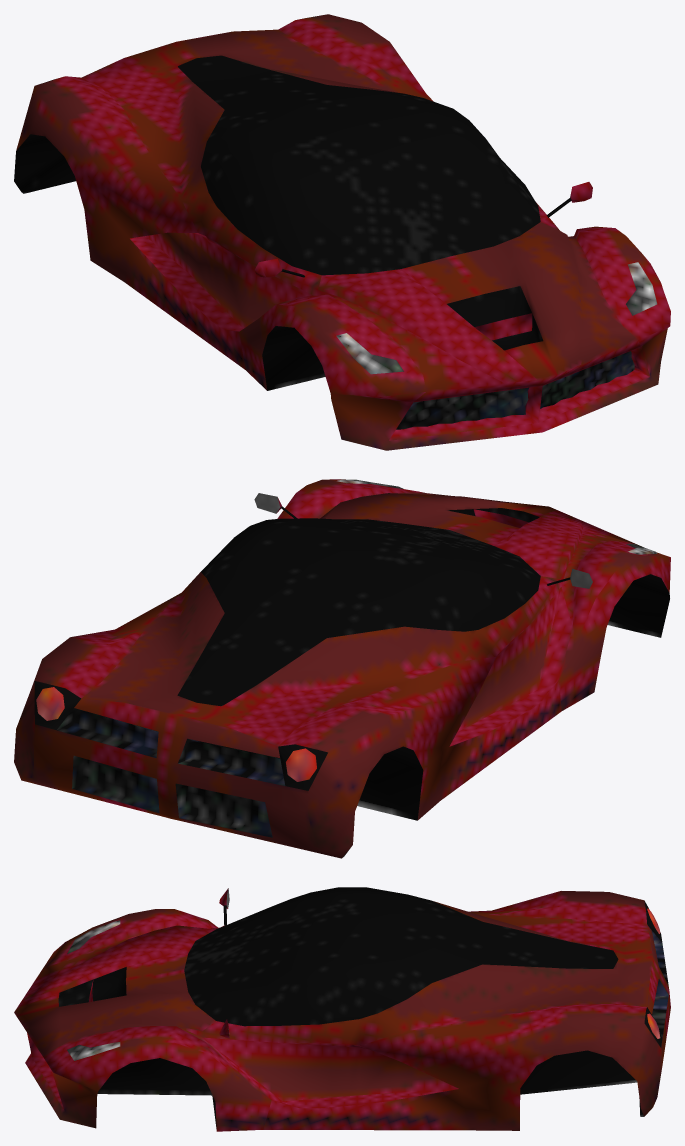
File: ferrari laferrari.fbx
The picture shows the model from 3 angles, top to bottom: view 1: azimuth 30°, elevation 25°; view 2: azimuth 150°, elevation 25°; view 3: azimuth 270°, elevation 25°; orthographic projection. The views are drawn at different scales.
Visible parts, largest first — view 1: ferrari laferrari; view 2: ferrari laferrari; view 3: ferrari laferrari.
Part boxes in pixels (x1,y1,x2,y2): ferrari laferrari: [14, 14, 670, 450]; ferrari laferrari: [14, 479, 670, 858]; ferrari laferrari: [14, 887, 670, 1131].
Bounding box in the file's own units: 2.9 × 1.34 × 5.68.
